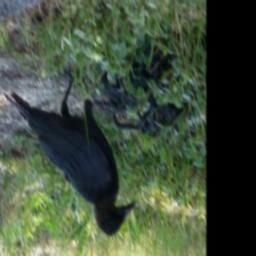Crow: (3, 68, 135, 238)
